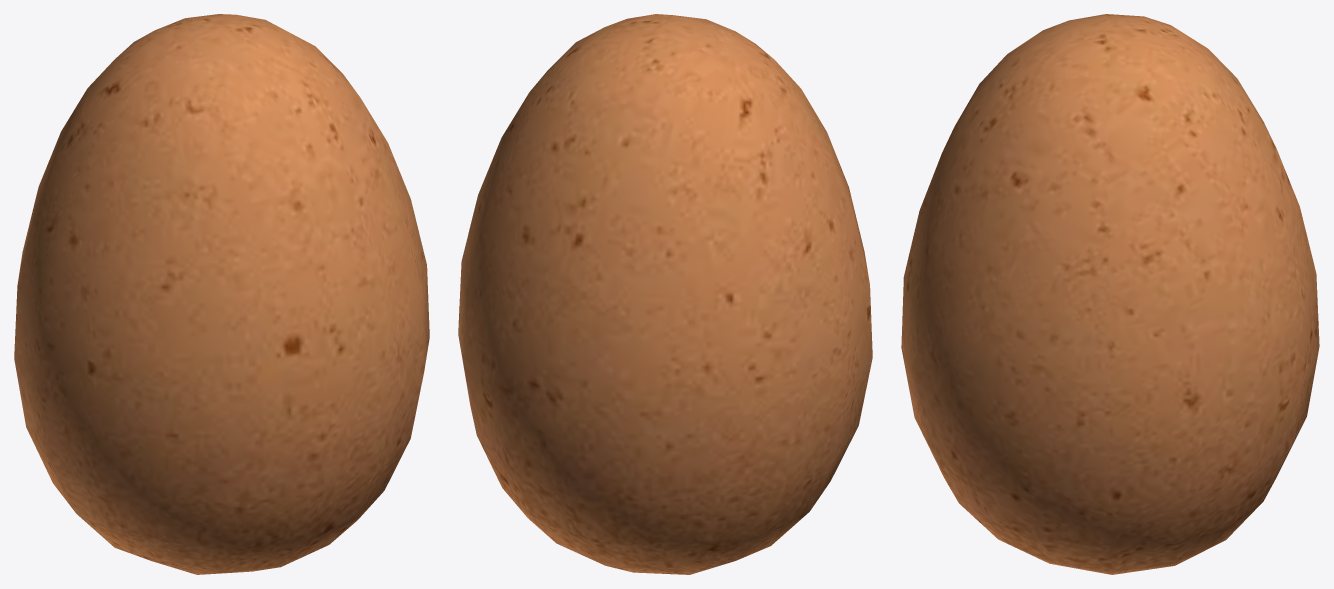
Rendered from egg 2.glb.
The picture shows the model from 3 angles, left to right: view 1: azimuth 30°, elevation 25°; view 2: azimuth 150°, elevation 25°; view 3: azimuth 270°, elevation 25°; orthographic projection.
Visible parts, largest first — view 1: Egg 2; view 2: Egg 2; view 3: Egg 2.
Boxes of the visible parts, x1=… form: Egg 2: x1=14, y1=14, x2=429, y2=574; Egg 2: x1=458, y1=14, x2=872, y2=574; Egg 2: x1=901, y1=14, x2=1319, y2=574.
Size of the model in its own units: 0.0772 by 0.1079 by 0.0772.
Materials: 1 (1 with a texture image).
